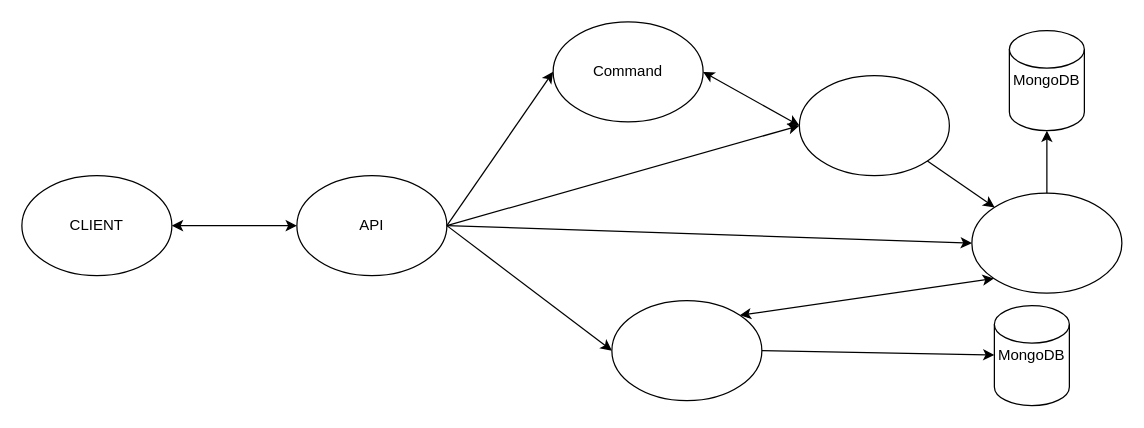
Some shapes in this 1144 by 428 pixel diagram are drawn without their labels. The centre of each missing label's shape, as x and y in pixels:
"Analytics" goes at pixel 686 350.
"Data" goes at pixel 1046 242.
"Device" goes at pixel 873 125.
